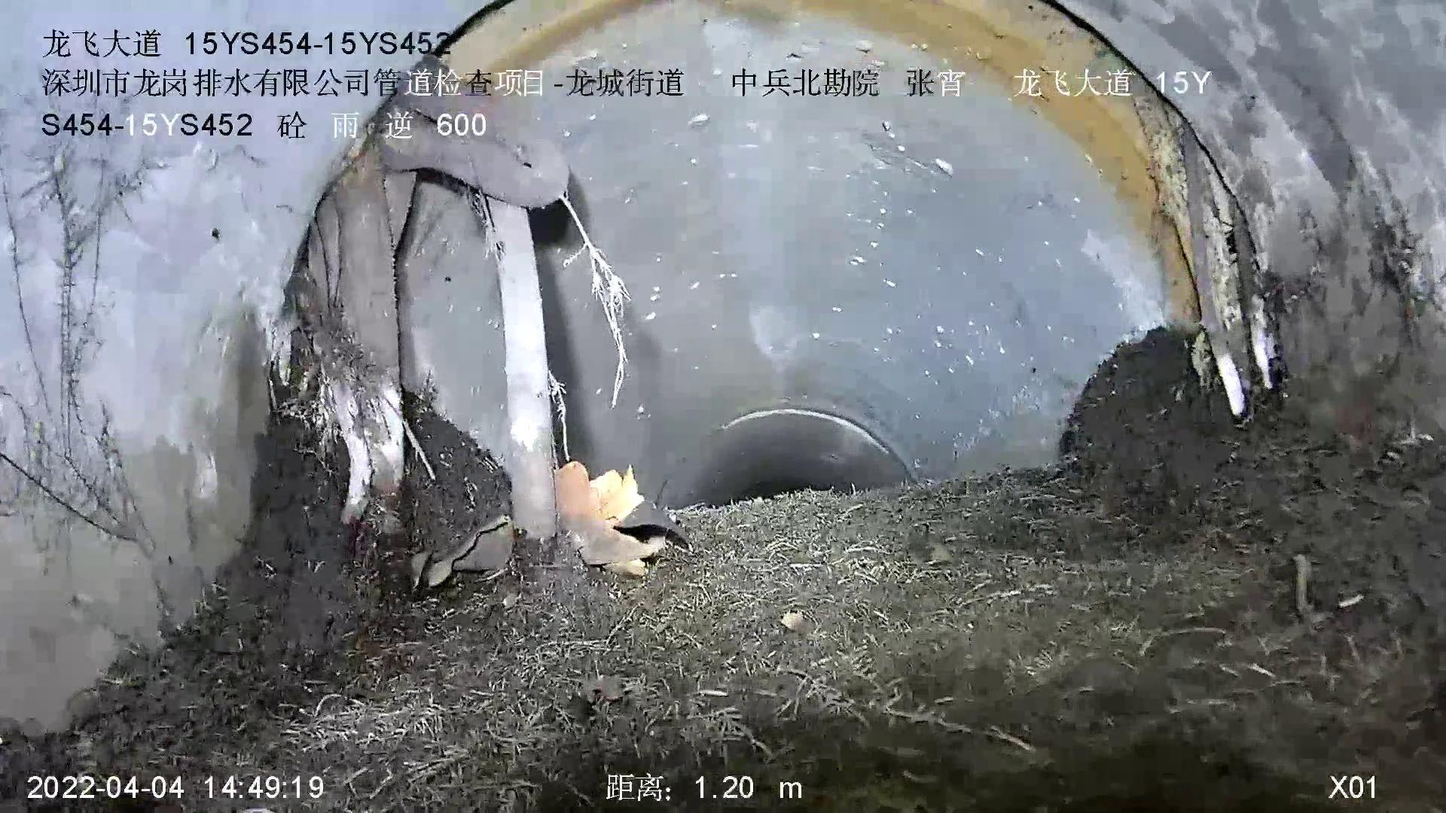CJ: (0, 330, 1445, 812)
YWCR: (307, 55, 627, 539)
